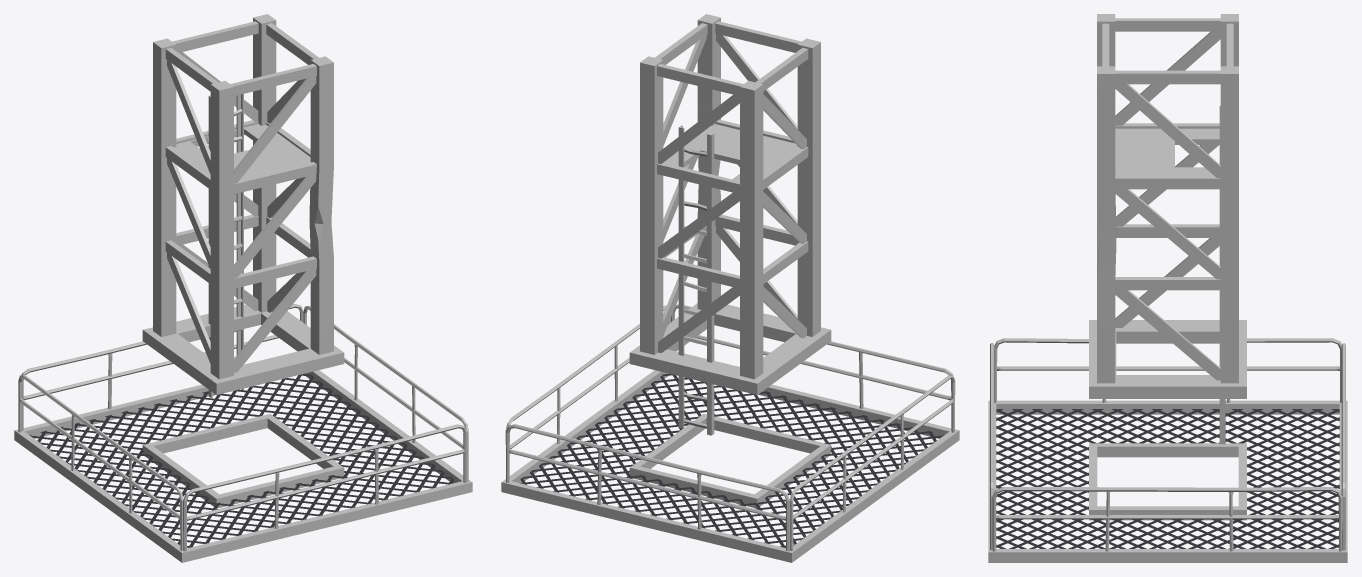
The model's file is SM_Bld_Crane_Section_01.obj.
3 views of the same model, side by side, from view 1: azimuth 30°, elevation 25°; view 2: azimuth 150°, elevation 25°; view 3: azimuth 270°, elevation 25° (orthographic). The views are drawn at different scales.
Parts seen in each view (by area): view 1: SM_Bld_Crane_Section_01_1, SM_Bld_Crane_Section_01_0; view 2: SM_Bld_Crane_Section_01_1, SM_Bld_Crane_Section_01_0; view 3: SM_Bld_Crane_Section_01_1, SM_Bld_Crane_Section_01_0.
Part boxes in pixels (x1,y1,x2,y2): SM_Bld_Crane_Section_01_1: (14,14,472,562); SM_Bld_Crane_Section_01_0: (29,374,453,547); SM_Bld_Crane_Section_01_1: (501,14,959,562); SM_Bld_Crane_Section_01_0: (520,373,944,547); SM_Bld_Crane_Section_01_1: (988,14,1347,562); SM_Bld_Crane_Section_01_0: (996,409,1339,548).
Bounding box in the file's own units: 5.06 × 6.89 × 5.06.
